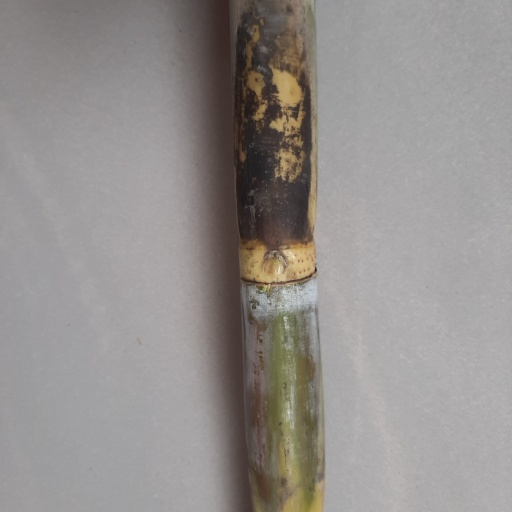Bud: (260, 249, 287, 281)
